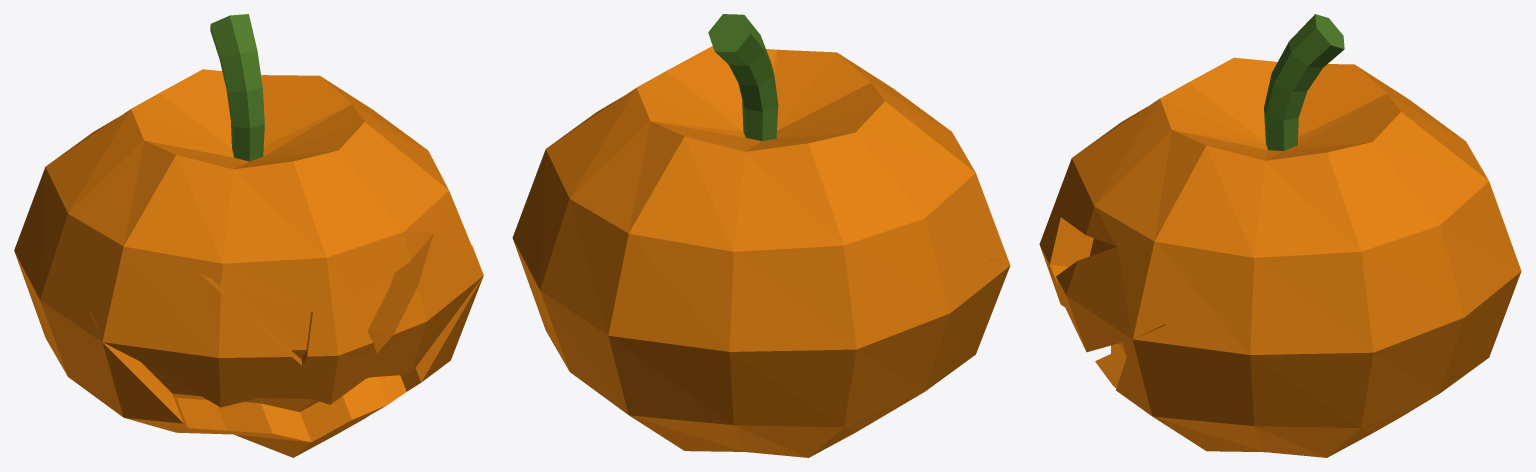
The model's file is Pumpkin001.gltf.
3 views of the same model, side by side, from view 1: azimuth 30°, elevation 25°; view 2: azimuth 150°, elevation 25°; view 3: azimuth 270°, elevation 25° (orthographic). The views are drawn at different scales.
Parts seen in each view (by area): view 1: Pumpkin001; view 2: Pumpkin001; view 3: Pumpkin001.
Boxes of the visible parts, left/top/right/bottom form: Pumpkin001: left=14, top=14, right=483, bottom=457; Pumpkin001: left=512, top=14, right=1010, bottom=457; Pumpkin001: left=1039, top=14, right=1521, bottom=457.
Bounding box in the file's own units: 0.3556 × 0.3377 × 0.3728.
